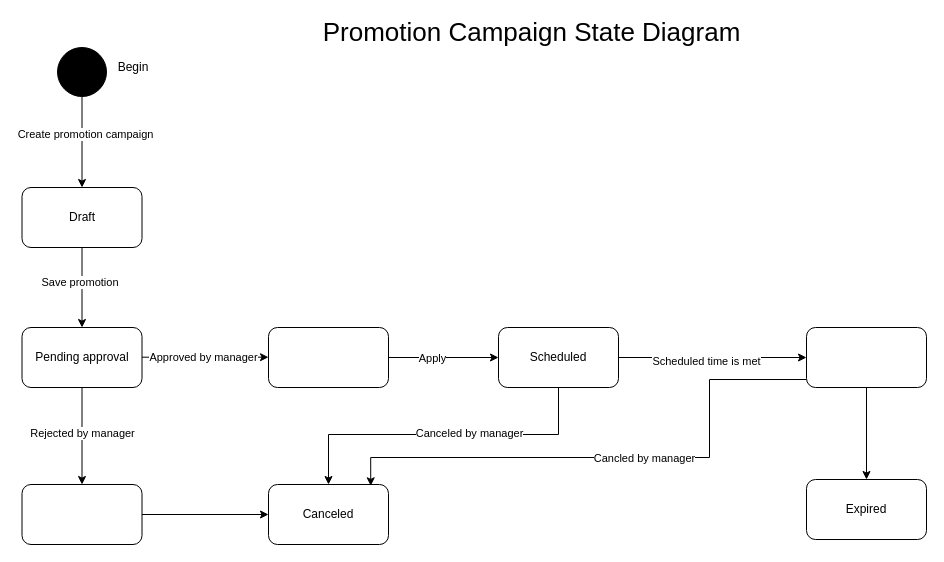
Some shapes in this 944 by 562 pixel diagram are drawn without their labels. The shapes that lost their labels are listed below. From the top down, each one's centre as x and y in pixels, then its label:
the point at 328,357: Approved
the point at 866,357: Active
the point at 81,514: Rejected
